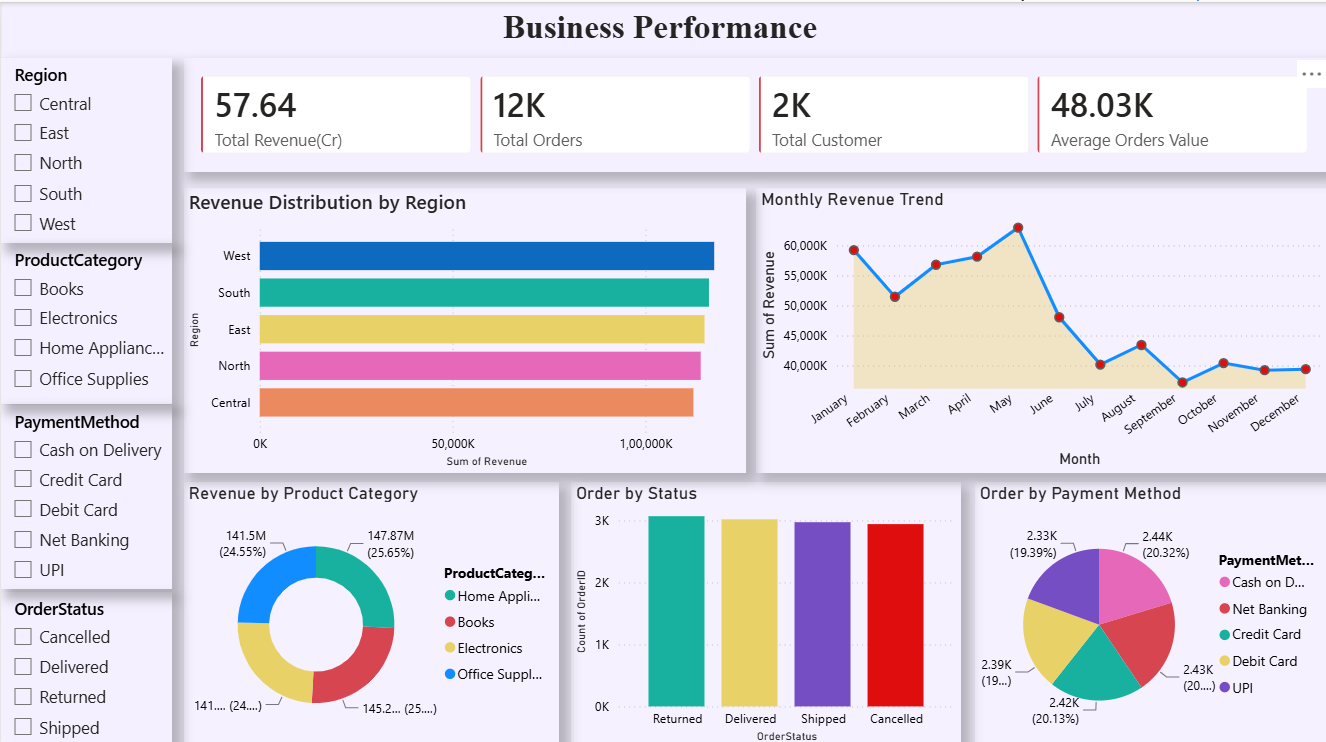

The page's visual inventory and layout, read from the dashboard file:
{"tool":"powerbi","page":{"name":"Page 2","canvas":[1280,720],"ordinal":1},"visuals":[{"type":"cardVisual","fields":{"Data":["Sheet2.Total Revenue","Table1.Total Orders","Sheet2.Total Customer","Table1.Average Orders Value"]},"box":[175.6,54.9,1104.6,109.8],"z":0},{"type":"clusteredBarChart","title":" Revenue Distribution by Region","fields":{"Category":["Table1.Region"],"Y":["Sum(Table1.Revenue)"]},"box":[175.6,179.8,543.4,274.4],"z":1000},{"type":"donutChart","title":" Revenue by Product Category","fields":{"Category":["Table1.ProductCategory"],"Y":["Sum(Table1.Revenue)"]},"box":[175.6,463.8,362.3,256.6],"z":2000},{"type":"pieChart","title":"Order by  Payment Method","fields":{"Category":["Table1.PaymentMethod"],"Y":["CountNonNull(Table1.OrderID)"]},"box":[940,463.8,340.3,256.6],"z":3000},{"type":"clusteredColumnChart","title":"Order by Status","fields":{"Category":["Table1.OrderStatus"],"Y":["CountNonNull(Table1.OrderID)"]},"box":[550.3,463.8,376,256.6],"z":4000},{"type":"areaChart","title":"Monthly Revenue Trend","fields":{"Category":["Table1.OrderDate.Variation.Date Hierarchy.Month"],"Y":["Sum(Table1.Revenue)"]},"box":[728.6,179.8,551.6,274.4],"z":5000},{"type":"slicer","fields":{"Values":["Table1.Region"]},"box":[0,54.9,164.7,178.4],"z":6000},{"type":"slicer","fields":{"Values":["Table1.ProductCategory"]},"box":[0,233.3,164.7,155.1],"z":7000},{"type":"slicer","fields":{"Values":["Table1.PaymentMethod"]},"box":[0,388.3,164.7,178.4],"z":8000},{"type":"slicer","fields":{"Values":["Table1.OrderStatus"]},"box":[0,569.5,164.7,150.9],"z":9000},{"type":"textbox","box":[0,0,1280.3,54.9],"z":10000}]}

Visuals, with their boxes in screenshot pixels (x1, y1, x2, y2), scaled from the page's 1280x720 canvas onto the 1326x742 screenshot:
cardVisual - Sheet2.Total Revenue x Table1.Total Orders: [x1=182, y1=57, x2=1325, y2=170]
" Revenue Distribution by Region" clusteredBarChart: [x1=182, y1=185, x2=745, y2=468]
" Revenue by Product Category" donutChart: [x1=182, y1=478, x2=557, y2=741]
"Order by  Payment Method" pieChart: [x1=974, y1=478, x2=1325, y2=741]
"Order by Status" clusteredColumnChart: [x1=570, y1=478, x2=960, y2=741]
"Monthly Revenue Trend" areaChart: [x1=755, y1=185, x2=1325, y2=468]
slicer - Table1.Region: [x1=0, y1=57, x2=171, y2=240]
slicer - Table1.ProductCategory: [x1=0, y1=240, x2=171, y2=400]
slicer - Table1.PaymentMethod: [x1=0, y1=400, x2=171, y2=584]
slicer - Table1.OrderStatus: [x1=0, y1=587, x2=171, y2=741]
textbox: [x1=0, y1=0, x2=1325, y2=57]
